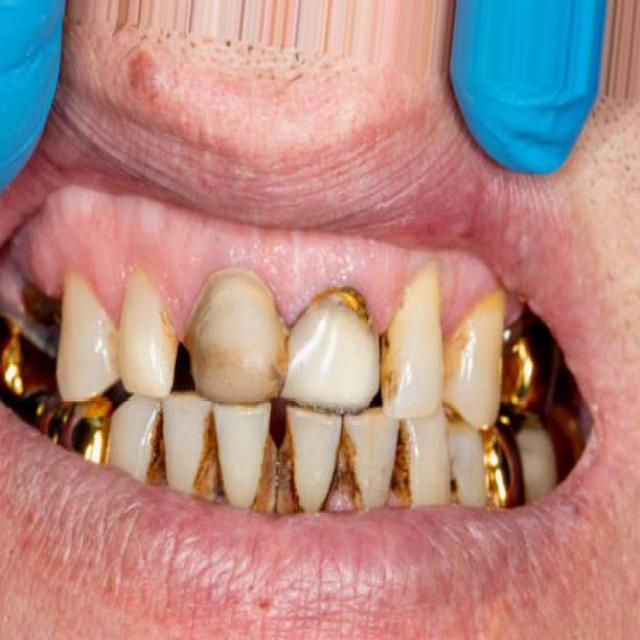caries: (443, 316, 473, 394), (441, 452, 471, 513)
